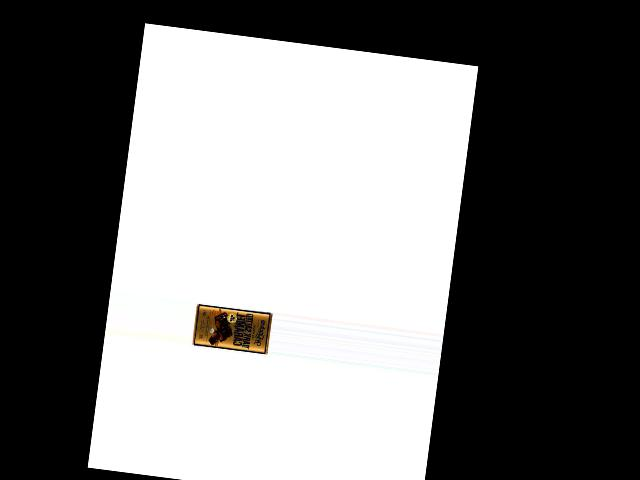chocolate: (190, 300, 272, 355)
